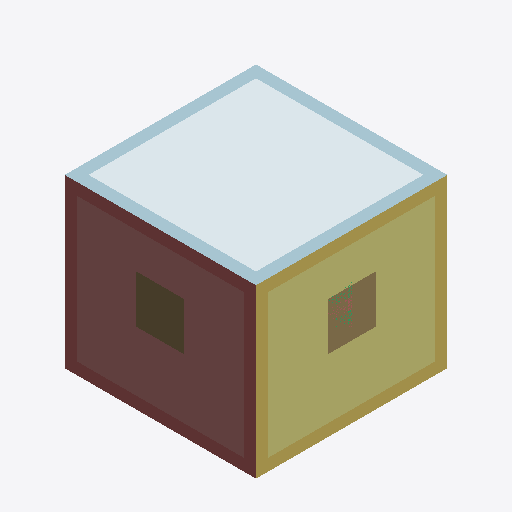
A Minecraft block model of 9 cuboids, rendered isometrically (azimuth 45°, elevation 35.3°) with the resource pack's own textures.
Visible parts, largest first — element 1.
Boxes of the visible parts, box(x1,y1,x2,y2) form: element 1: box(65, 65, 446, 477).
Bounding box in the file's own units: 16 × 16.25 × 16.